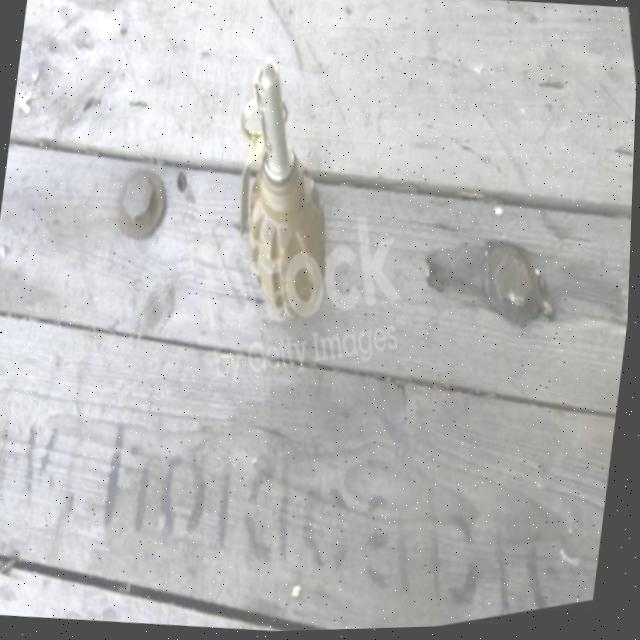grenade: (192, 37, 371, 354)
